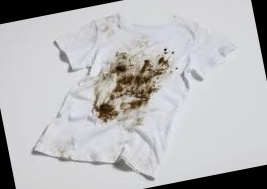earth: (106, 59, 159, 100), (153, 48, 173, 75), (121, 95, 150, 111), (96, 103, 117, 120)
